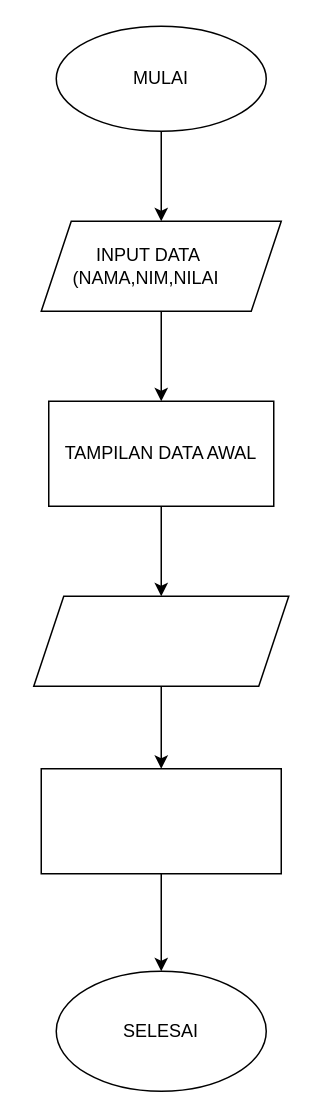
The diagram is 315 pixels wide and 1118 high, and some of its shapes have lost their labels. Each missing label, with the box of its shape:
INPUT NILAI BARU: (32, 595, 289, 686)
PROSES :updateNilai(mhs): (40, 767, 281, 874)
